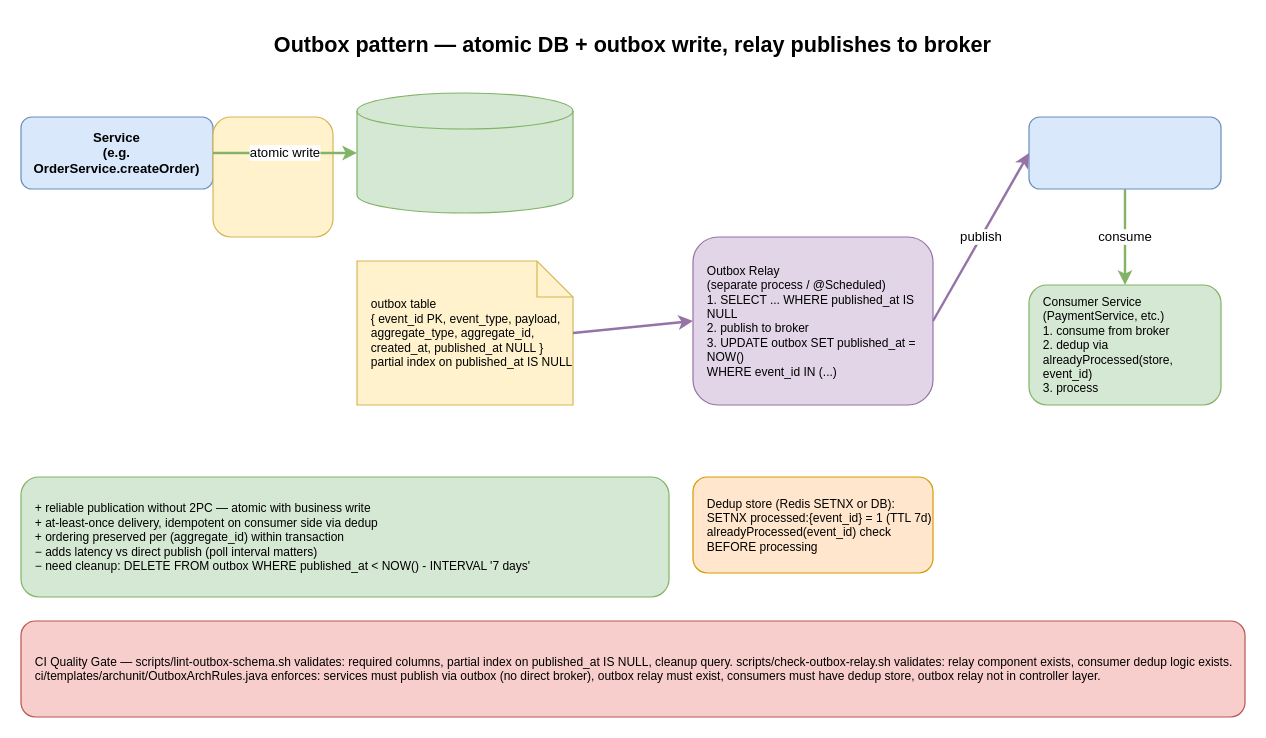
This 1266x738 diagram has some shape labels left out. The shapes that lost their labels are listed below. From the top down, each one's centre as x and y in pixels, then its label:
At [464,152]: "Application Database (PostgreSQL)".
At [1124,152]: "Message Broker (Kafka / RabbitMQ / SQS / SNS)".
At [272,176]: "BEGIN INSERT INTO orders ... INSERT INTO outbox ... COMMIT (atomic)".
